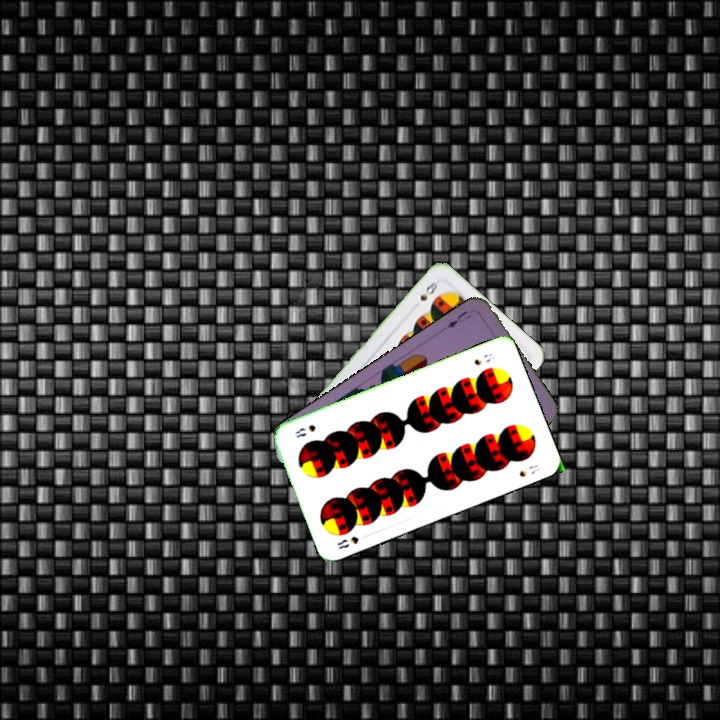EU: (443, 307, 473, 331)
S8: (416, 277, 440, 303), (333, 532, 361, 552), (470, 349, 497, 368)
